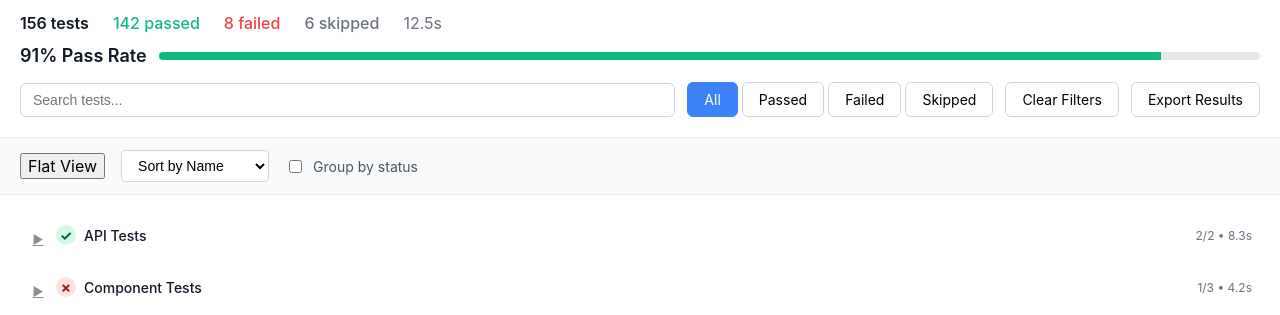
it: TestResultsView › Filtering and Search › filters tests by status
Click failed filter
What coordinates should you click on to do the following:
click the button "Failed"
I would click on:
 (865, 100)
Its box is [828,82,901,117].
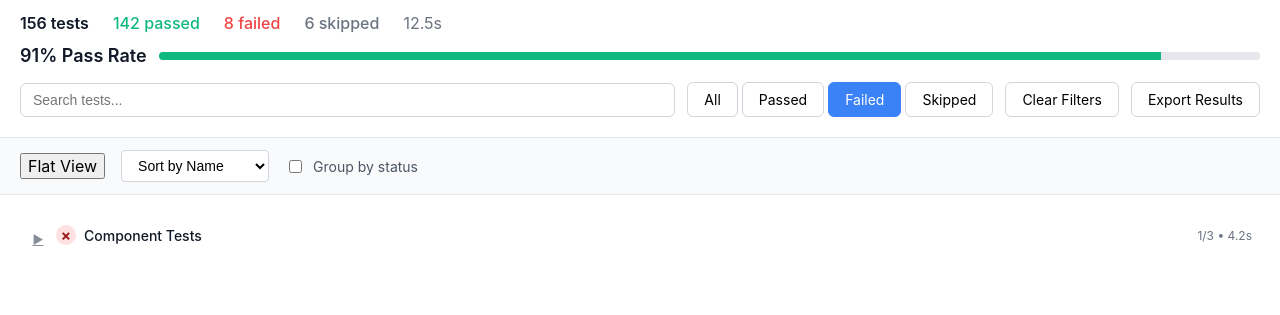
Expected: the text "Component Tests" is shown, [84,226,202,244]
Expected: the text "API Tests" is gone
